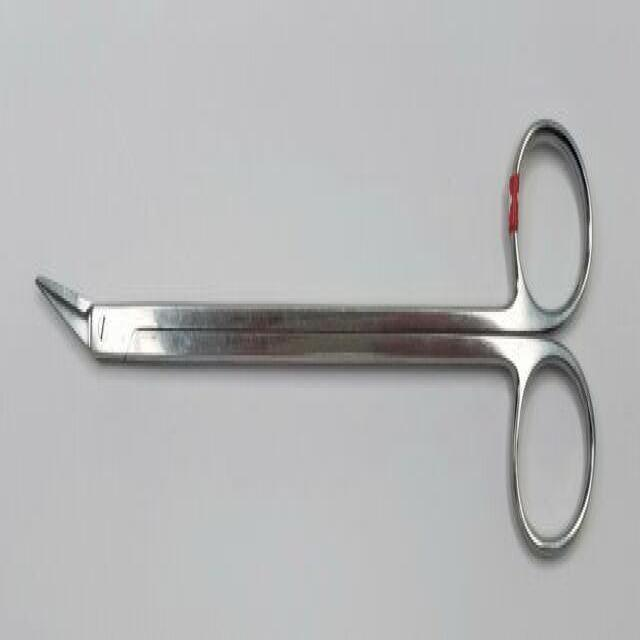Potts: (32, 105, 599, 572)
